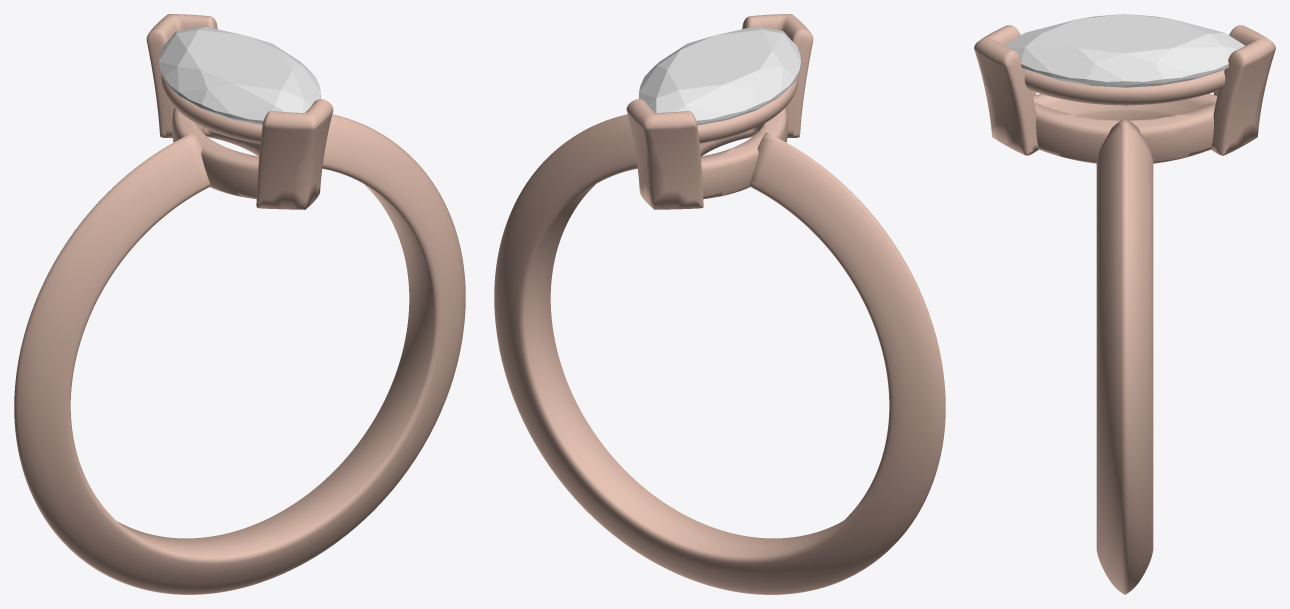
The model's file is diamond-marquise-rosegold-protectededges2prongs-knifeedge-nosidestones.glb.
3 renders of one model, left to right at view 1: azimuth 30°, elevation 25°; view 2: azimuth 150°, elevation 25°; view 3: azimuth 270°, elevation 25°, orthographic.
Parts seen in each view (by area): view 1: metal.003, stone; view 2: metal.003, stone; view 3: metal.003, stone.
Boxes of the visible parts, box(x1,y1,x2,y2) form: metal.003: box(14, 14, 465, 594); stone: box(159, 26, 320, 125); metal.003: box(494, 14, 945, 594); stone: box(639, 26, 800, 125); metal.003: box(974, 25, 1275, 594); stone: box(1004, 14, 1245, 106).
Size of the model in its own units: 20.49 by 22.93 by 11.69.
